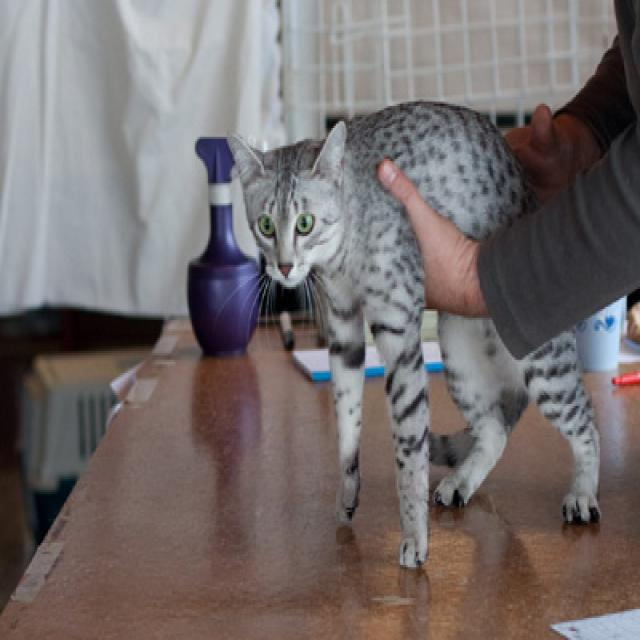cat: (224, 117, 344, 285)
